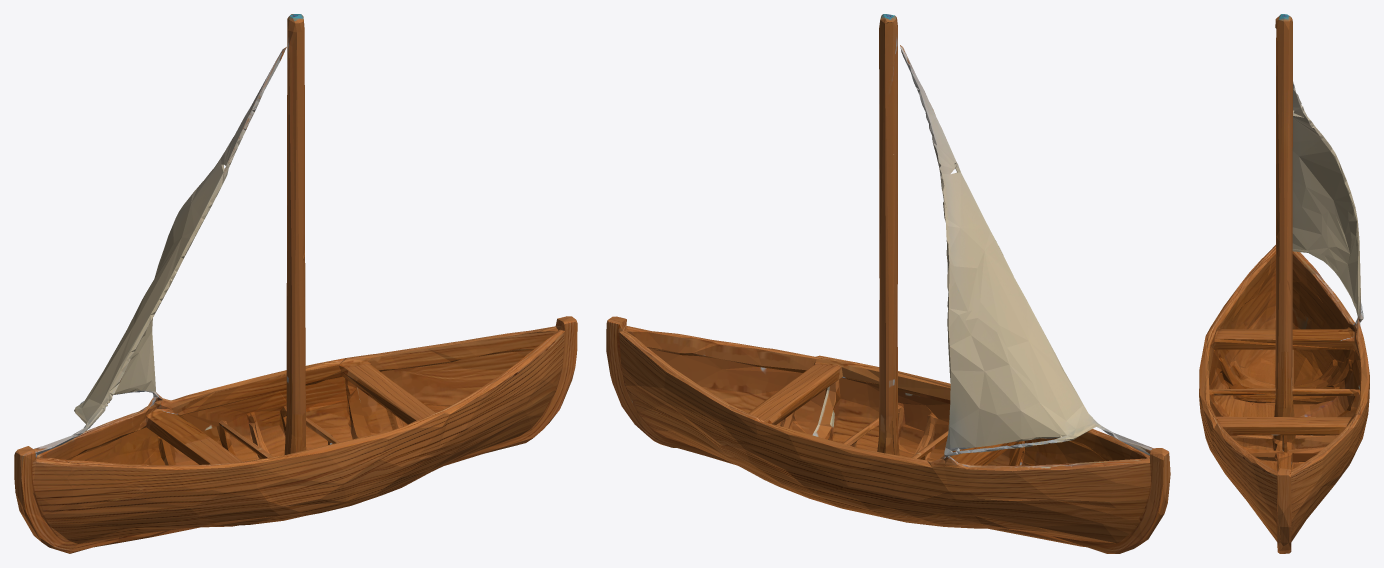
File: boat.glb
3 views of the same model, side by side, from view 1: azimuth 30°, elevation 25°; view 2: azimuth 150°, elevation 25°; view 3: azimuth 270°, elevation 25° (orthographic). The views are drawn at different scales.
Parts seen in each view (by area): view 1: textured_mesh.obj; view 2: textured_mesh.obj; view 3: textured_mesh.obj.
Part boxes in pixels (x1,y1,x2,y2): textured_mesh.obj: [14, 14, 577, 553]; textured_mesh.obj: [606, 14, 1170, 553]; textured_mesh.obj: [1199, 14, 1369, 553].
Size of the model in its own units: 1.98 by 1.66 by 0.581.
1 material, 1 textured.
